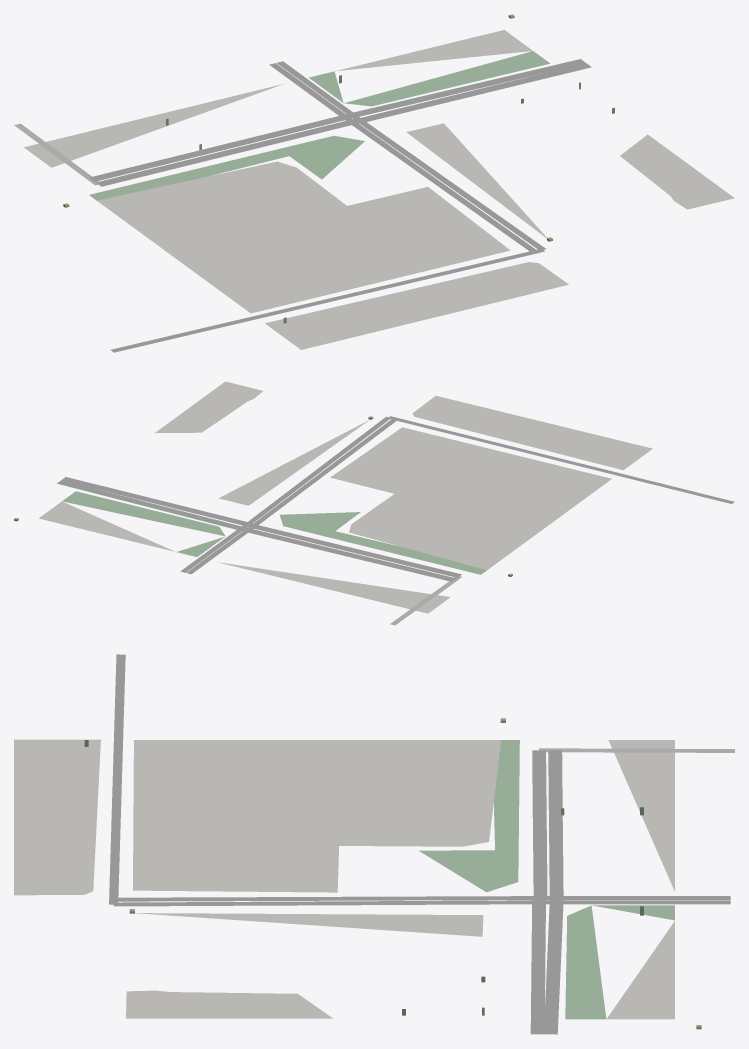
3 renders of one model, top to bottom at view 1: azimuth 30°, elevation 25°; view 2: azimuth 150°, elevation 25°; view 3: azimuth 270°, elevation 25°, orthographic. The views are drawn at different scales.
Bounding box in the file's own units: 678 × 8.1 × 545.
